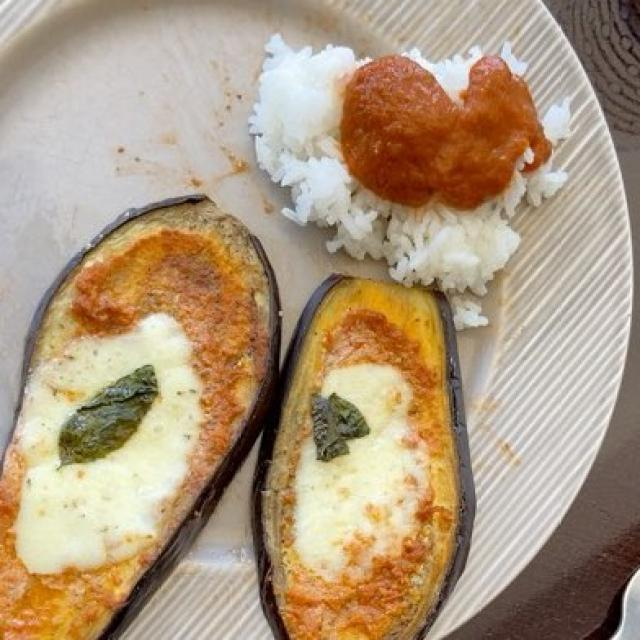cheese: (22, 318, 425, 593)
eggplant: (0, 187, 471, 634)
rice: (264, 48, 549, 281)
